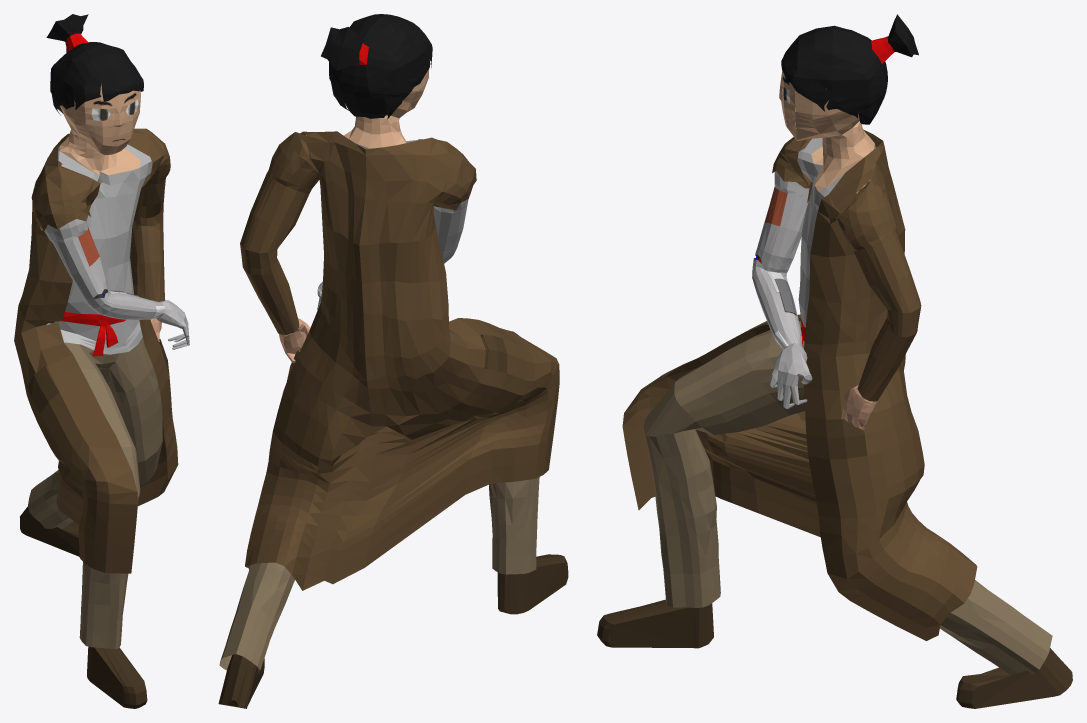
Rendered from One_DR_000002.obj.
3 views of the same model, side by side, from view 1: azimuth 30°, elevation 25°; view 2: azimuth 150°, elevation 25°; view 3: azimuth 270°, elevation 25° (orthographic). The views are drawn at different scales.
Visible parts, largest first — view 1: Hair_Cube.004; view 2: Hair_Cube.004; view 3: Hair_Cube.004.
Boxes of the visible parts, bbox=[...] form: Hair_Cube.004: bbox=[14, 14, 189, 708]; Hair_Cube.004: bbox=[218, 14, 568, 708]; Hair_Cube.004: bbox=[597, 14, 1072, 708].
Size of the model in its own units: 1.14 by 3.46 by 2.27.
